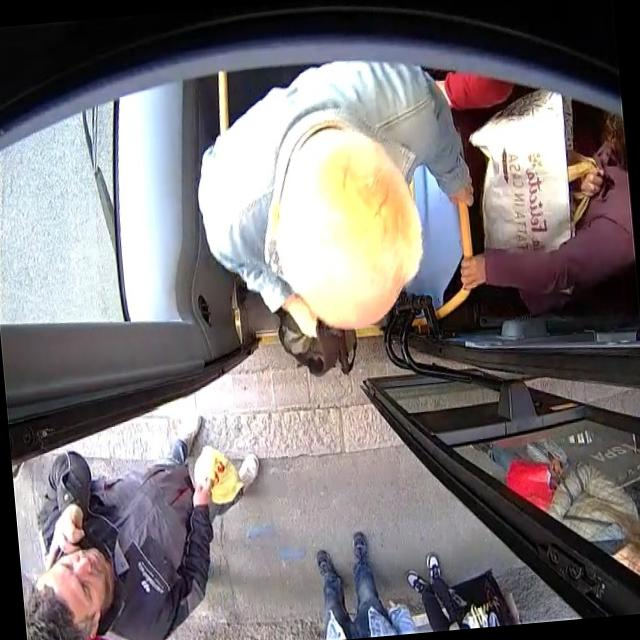bus-door: (362, 374, 640, 615)
